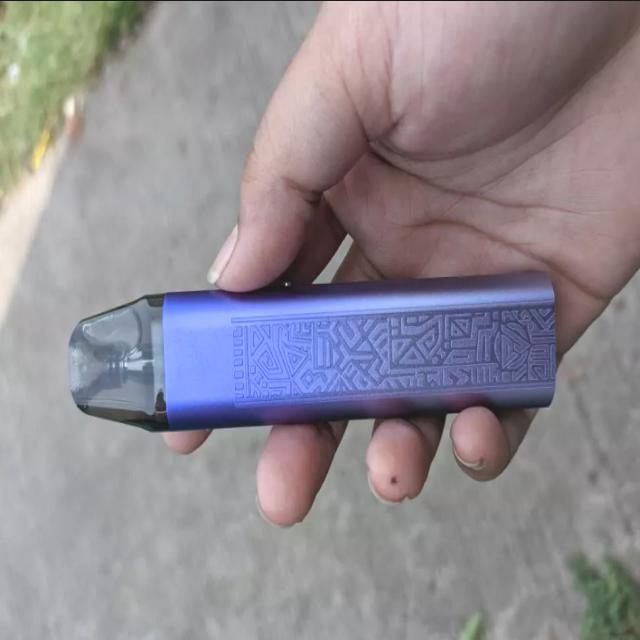Hazard: (70, 268, 560, 432)
